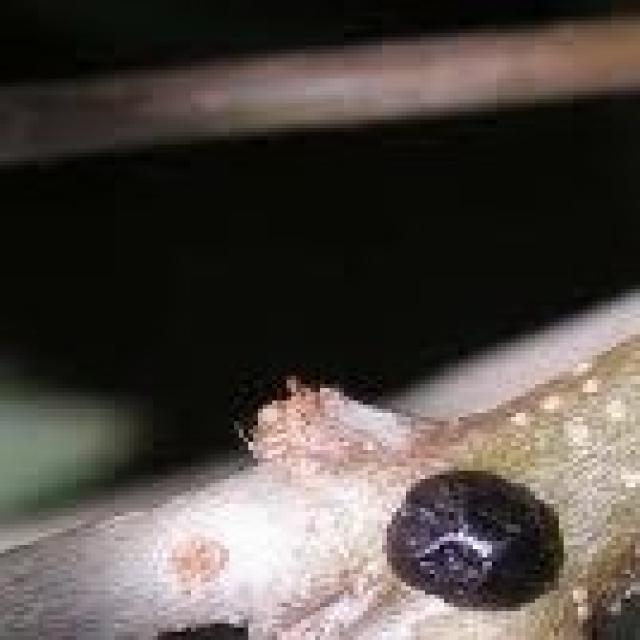Black Scale: (387, 467, 554, 607)
